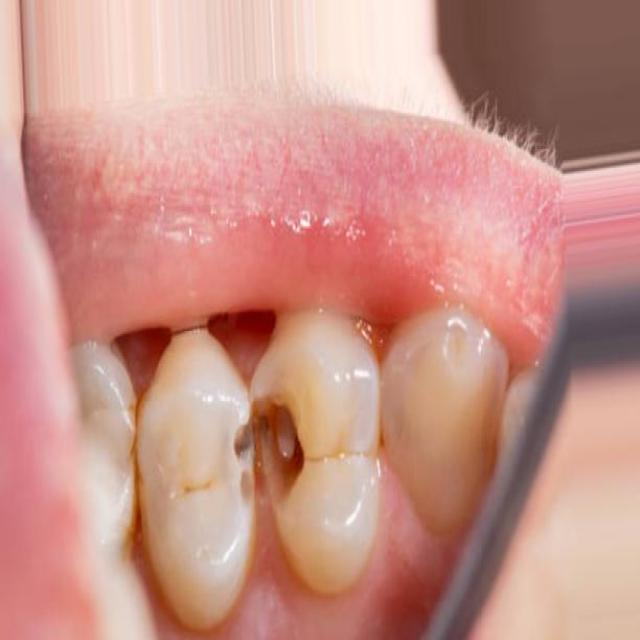caries: (207, 379, 318, 521)
